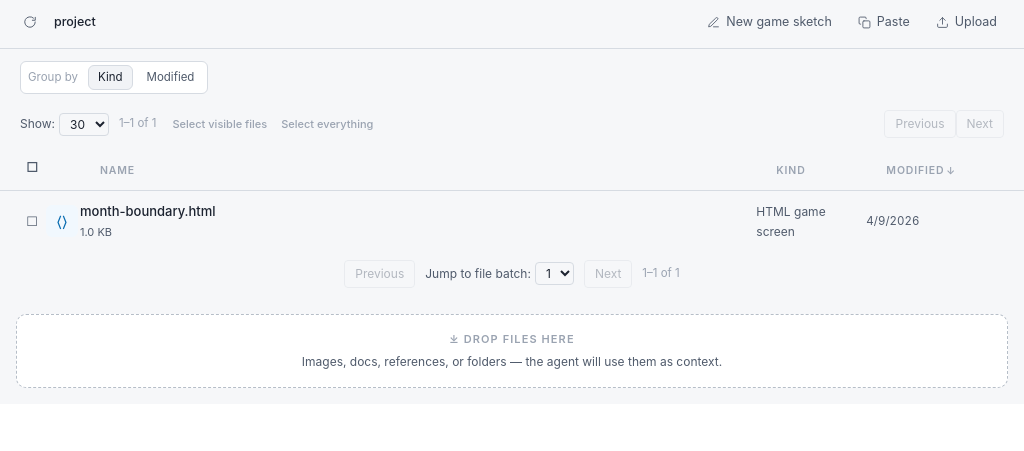
Test: GameFilesPanel grouping › keeps files at the thirty calendar day boundary in the previous 30 days group
Click the button "Modified": x=170, y=77 [136,65,204,90]
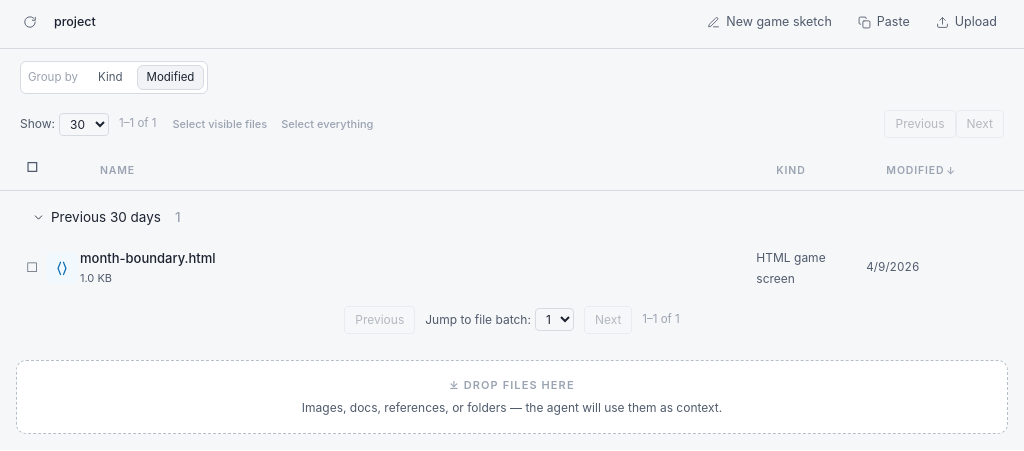
Expected: the row with test id "game-file-row-month-boundary.html" is shown, [0,237,1023,298]
Expected: the text "Previous 30 days" is shown, [51,207,161,227]
